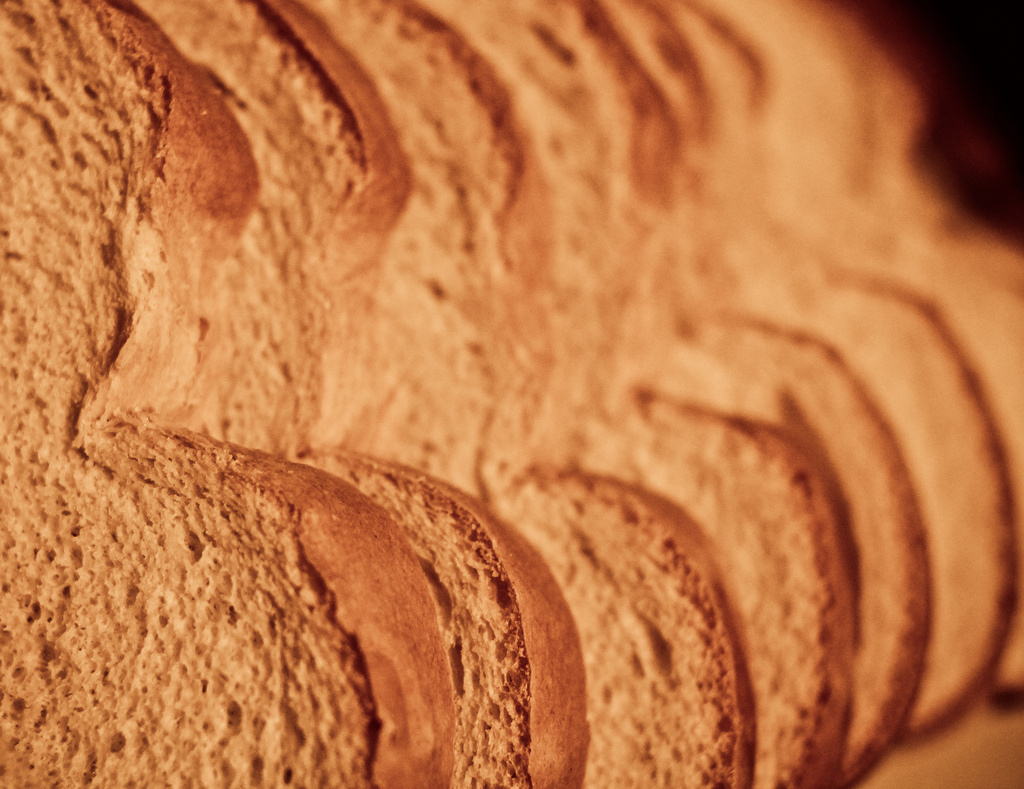slice of bread: (1, 5, 1002, 789)
